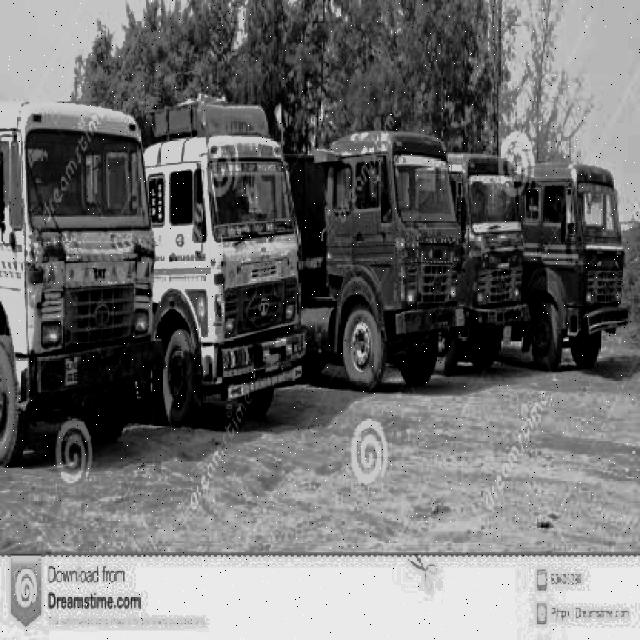HCV: (145, 77, 316, 414), (11, 83, 162, 429), (317, 95, 446, 374), (436, 132, 524, 378), (522, 160, 622, 372)
